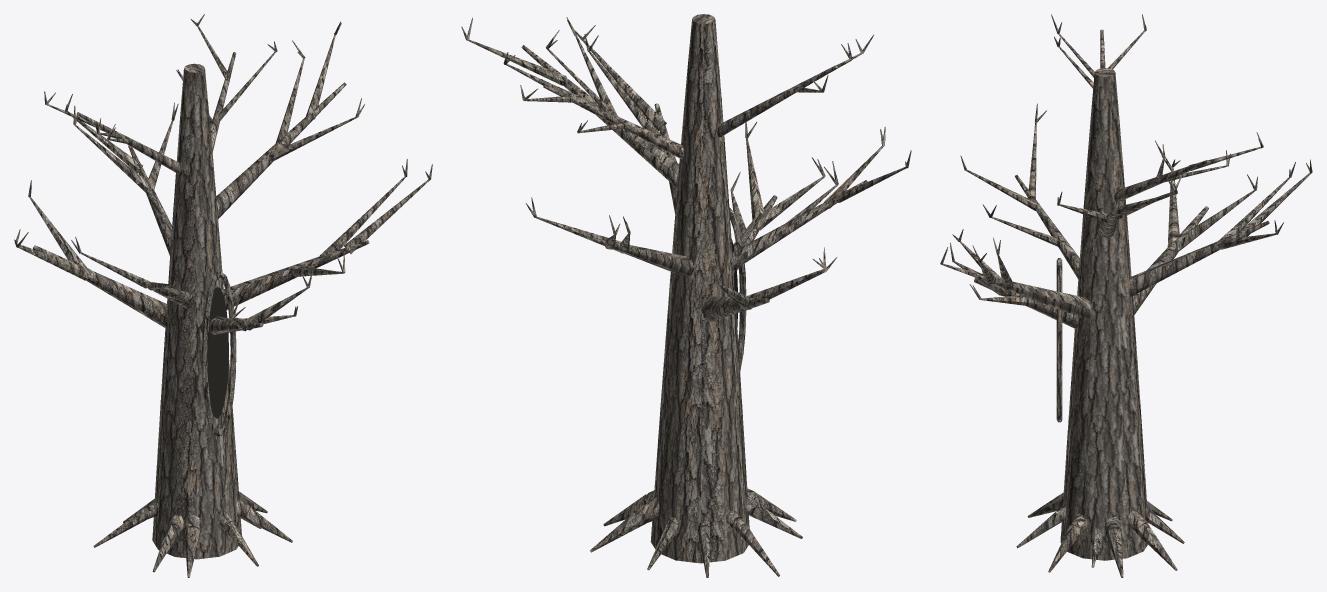
The model's file is hollow-snag-v02.glb.
3 views of the same model, side by side, from view 1: azimuth 30°, elevation 25°; view 2: azimuth 150°, elevation 25°; view 3: azimuth 270°, elevation 25° (orthographic). The views are drawn at different scales.
Parts seen in each view (by area): view 1: dead-tree-hollow; view 2: dead-tree-hollow; view 3: dead-tree-hollow.
Boxes of the visible parts, bbox=[...] form: dead-tree-hollow: bbox=[14, 14, 432, 577]; dead-tree-hollow: bbox=[461, 14, 911, 577]; dead-tree-hollow: bbox=[940, 14, 1312, 577].
Bounding box in the file's own units: 5.96 × 8.01 × 5.76.
Materials: 2 (1 with a texture image).
